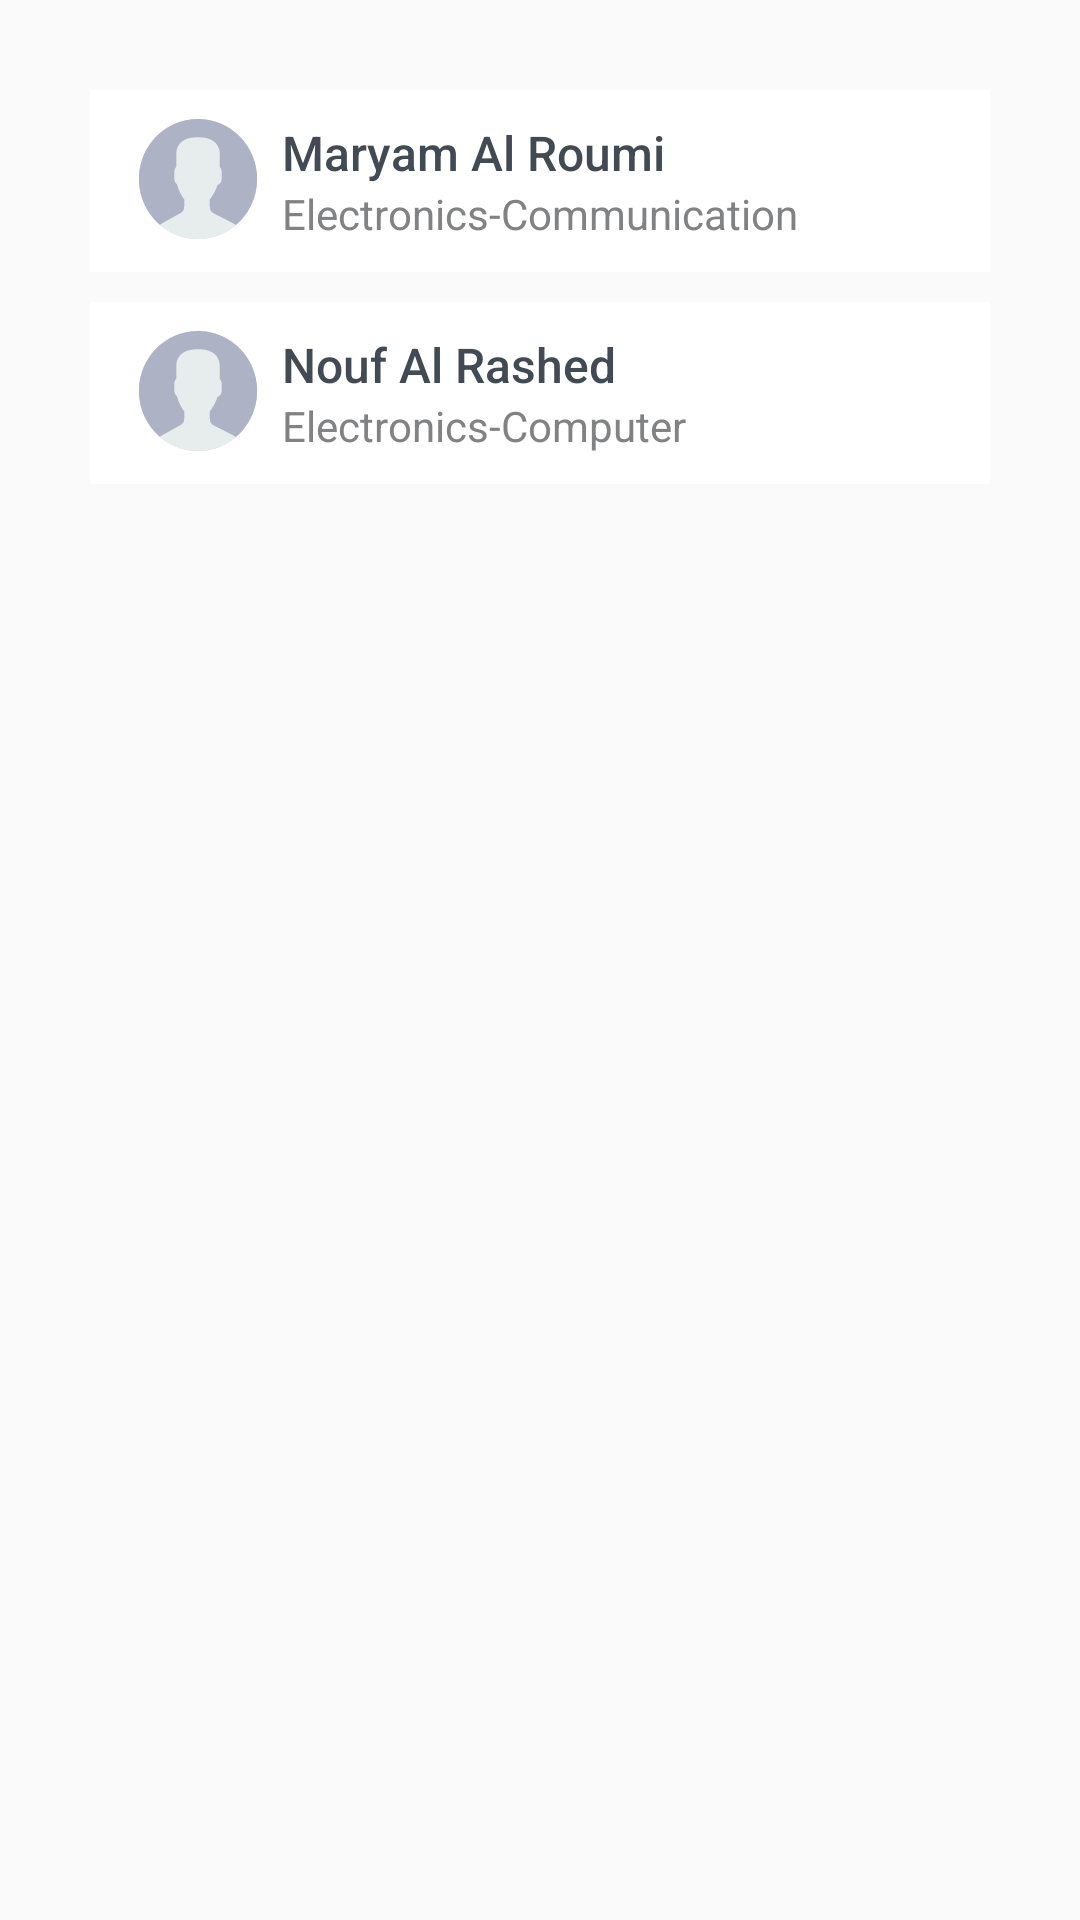

Icon click points for this 1080w x 1920h phone screenshot, format [x,y]:
user: [198,179], [198,391]
